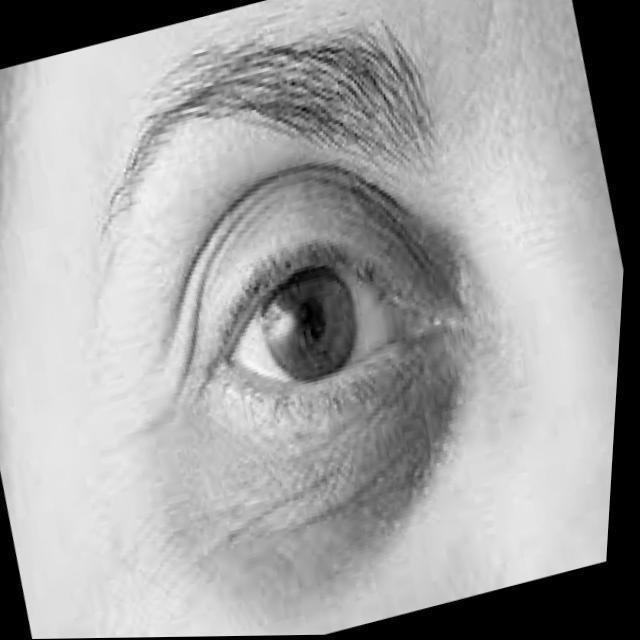puffy_eyes: (196, 343, 471, 575)
